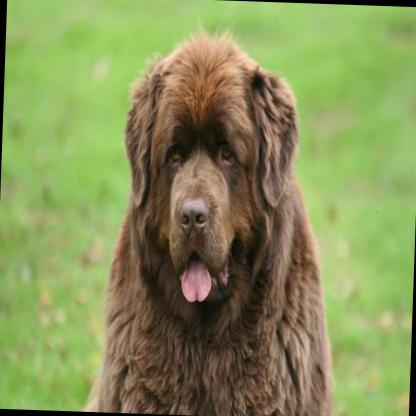Newfoundland: (81, 20, 348, 416)
